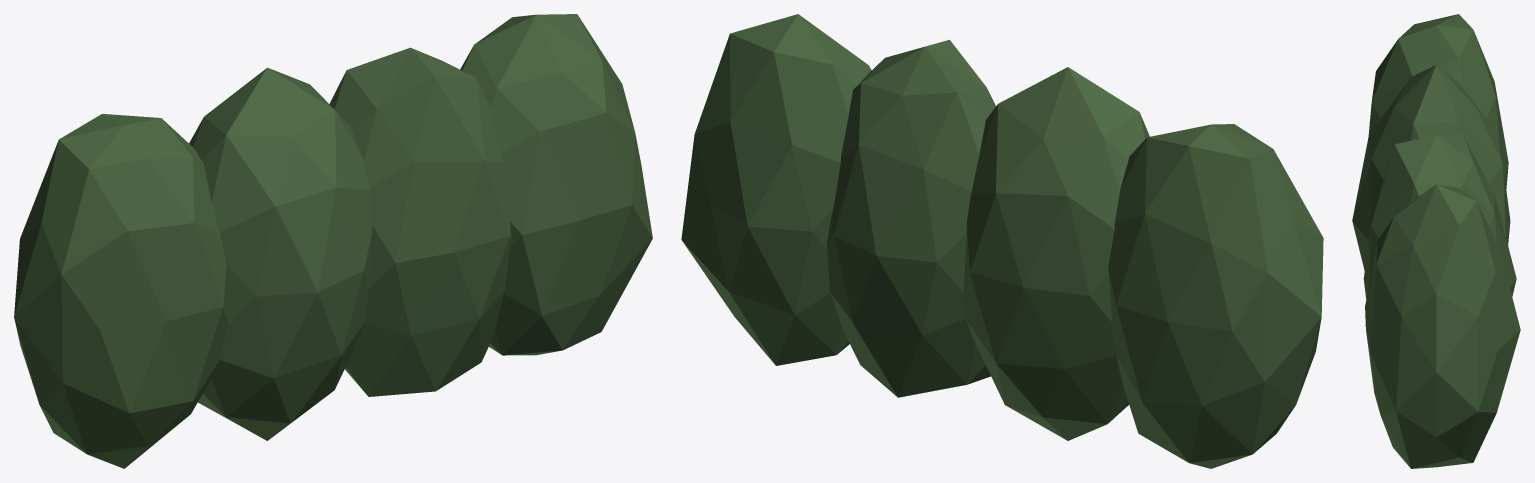
File: bahce-yesil-cit-2m.glb
3 views of the same model, side by side, from view 1: azimuth 30°, elevation 25°; view 2: azimuth 150°, elevation 25°; view 3: azimuth 270°, elevation 25° (orthographic). The views are drawn at different scales.
Parts seen in each view (by area): view 1: servi2; view 2: servi2; view 3: servi2.
Part boxes in pixels (box(x1,y1,x2,y2)): servi2: box(14, 14, 652, 468); servi2: box(681, 14, 1323, 468); servi2: box(1352, 14, 1520, 468).
Size of the model in its own units: 2.5 by 1.42 by 0.7012.
